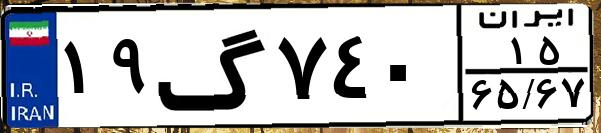0: (385, 28, 445, 110)
1: (57, 26, 110, 100), (508, 27, 537, 80)
4: (330, 28, 385, 110)
5: (537, 27, 568, 80), (495, 70, 520, 125)
6: (470, 70, 495, 125), (535, 70, 560, 125)
7: (270, 28, 330, 110), (560, 70, 590, 125)
9: (110, 28, 156, 98)
گ: (156, 12, 270, 120)
